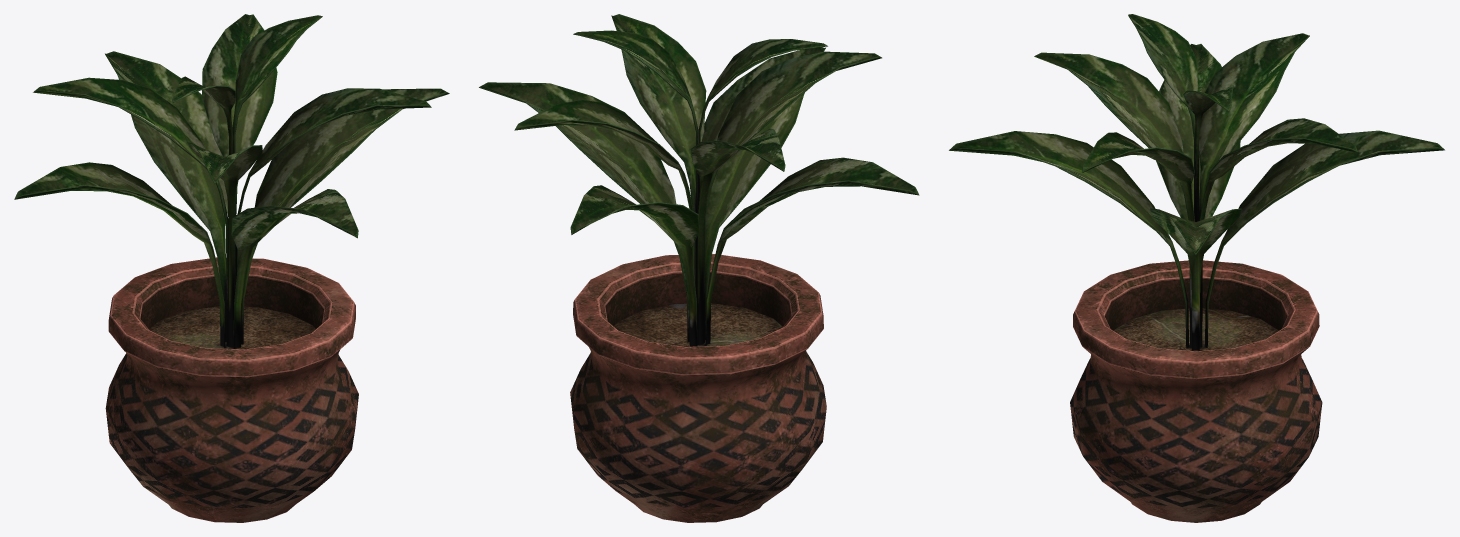
Rendered from yoco1.glb.
3 renders of one model, left to right at view 1: azimuth 30°, elevation 25°; view 2: azimuth 150°, elevation 25°; view 3: azimuth 270°, elevation 25°, orthographic. The views are drawn at different scales.
Parts seen in each view (by area): view 1: Plant_Pot_1, Plant_1; view 2: Plant_Pot_1, Plant_1; view 3: Plant_Pot_1, Plant_1.
Boxes of the visible parts, x1,y1,x2,y2 form: Plant_Pot_1: [105, 257, 358, 522]; Plant_1: [14, 14, 449, 348]; Plant_Pot_1: [570, 254, 826, 522]; Plant_1: [479, 14, 919, 346]; Plant_Pot_1: [1070, 260, 1322, 522]; Plant_1: [949, 14, 1444, 350].
Size of the model in its own units: 0.7349 by 0.7141 by 0.735.
Materials: 1 (1 with a texture image).
